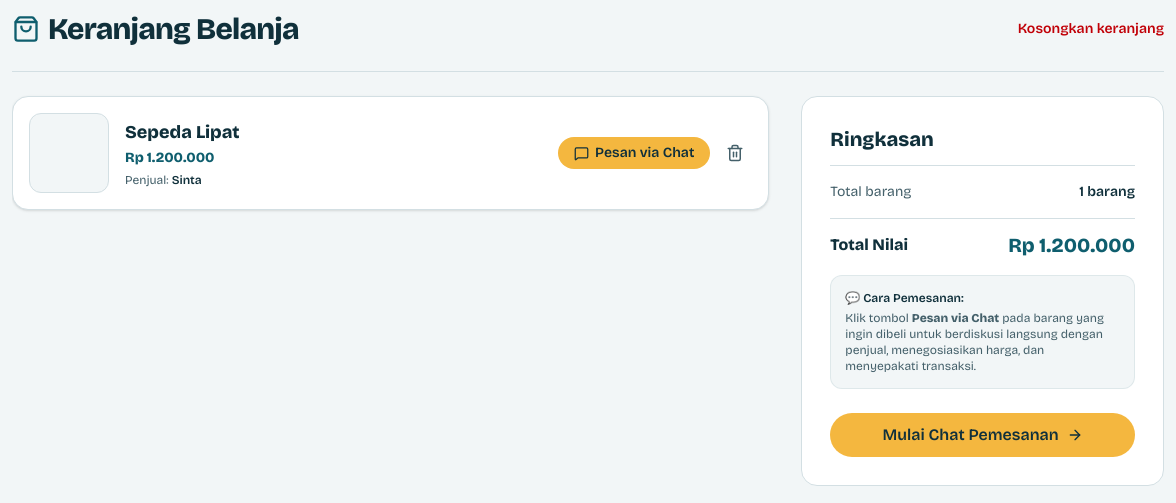
Test case: CartPage › mengosongkan keranjang
The image size is (1176, 503).
Click the button "Kosongkan keranjang": (1091, 29) [1018,19,1164,39]
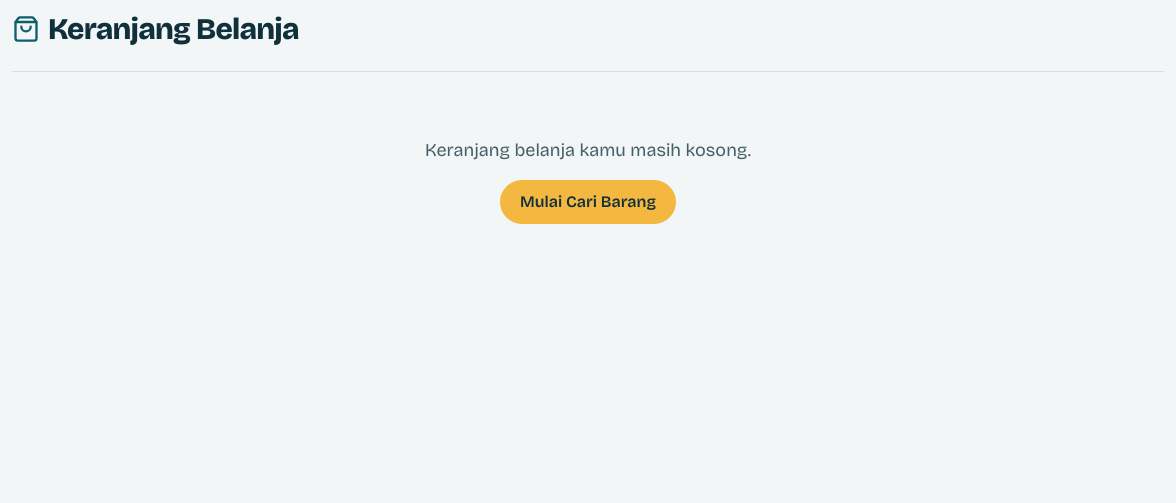
Now the text "Keranjang belanja kamu masih kosong." is shown, box [425,139,751,161]
